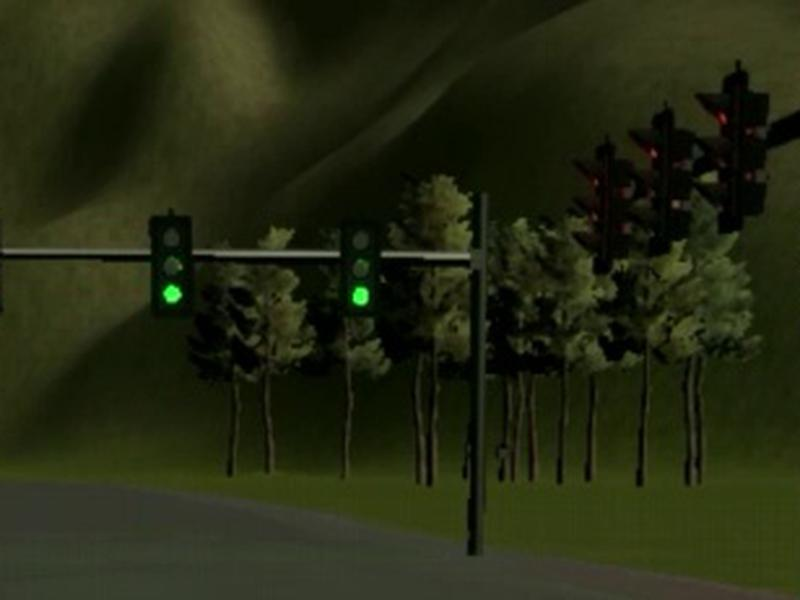Green: (150, 214, 194, 318), (336, 216, 381, 317)
